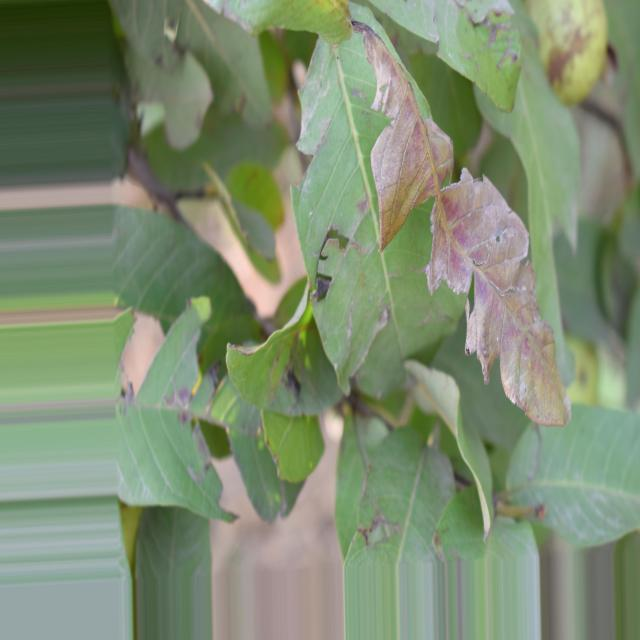Canker: (115, 6, 571, 557), (371, 0, 538, 112), (529, 0, 608, 105)
